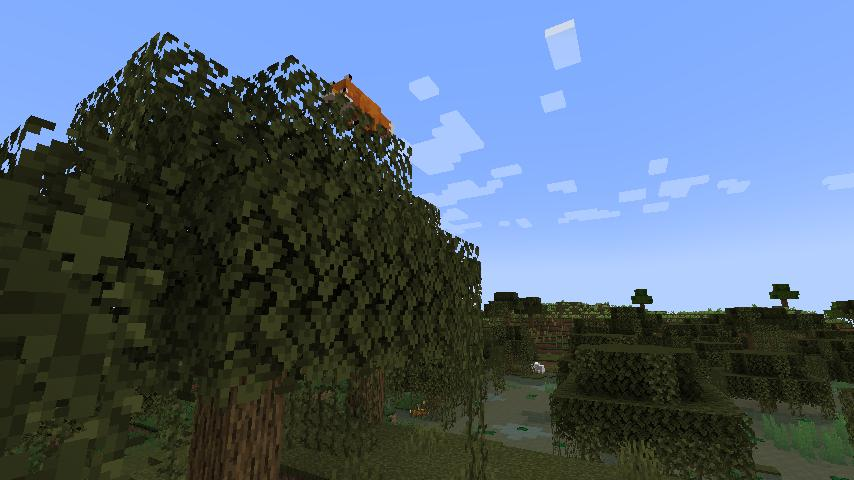fox: (317, 72, 402, 142), (409, 407, 431, 418)
sheep: (529, 361, 546, 375)
